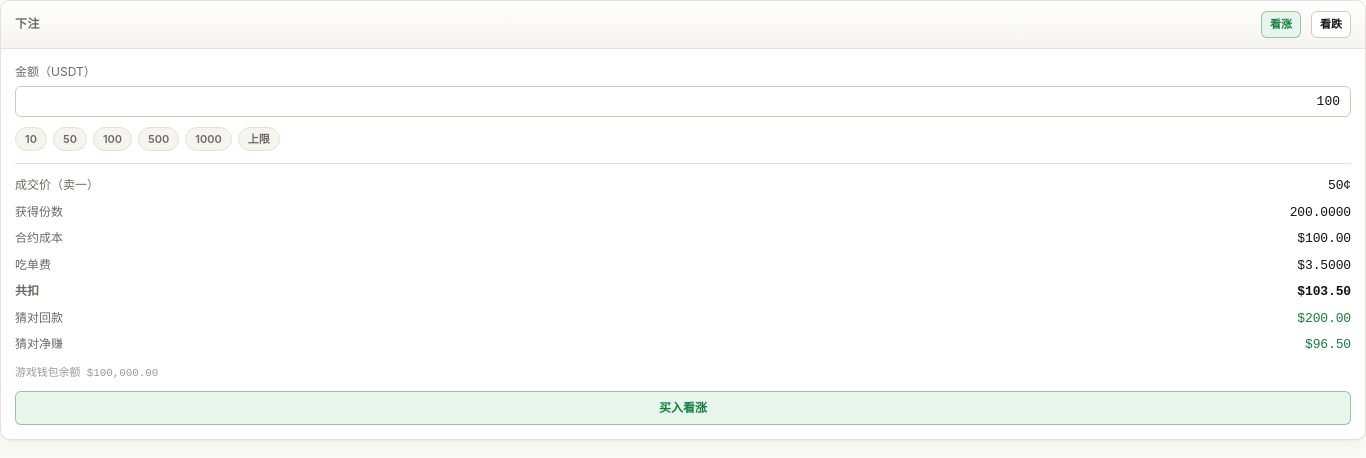
Test: BetTicket：试算以后端为准 › 金额越界时不试算，并锁住下单
Check: the text "200.0000" is shown, box [1290,204,1351,220]
Type "0" into the field labelled "金额（USDT）" at {"x": 683, "y": 101}, box [15,86,1351,116]
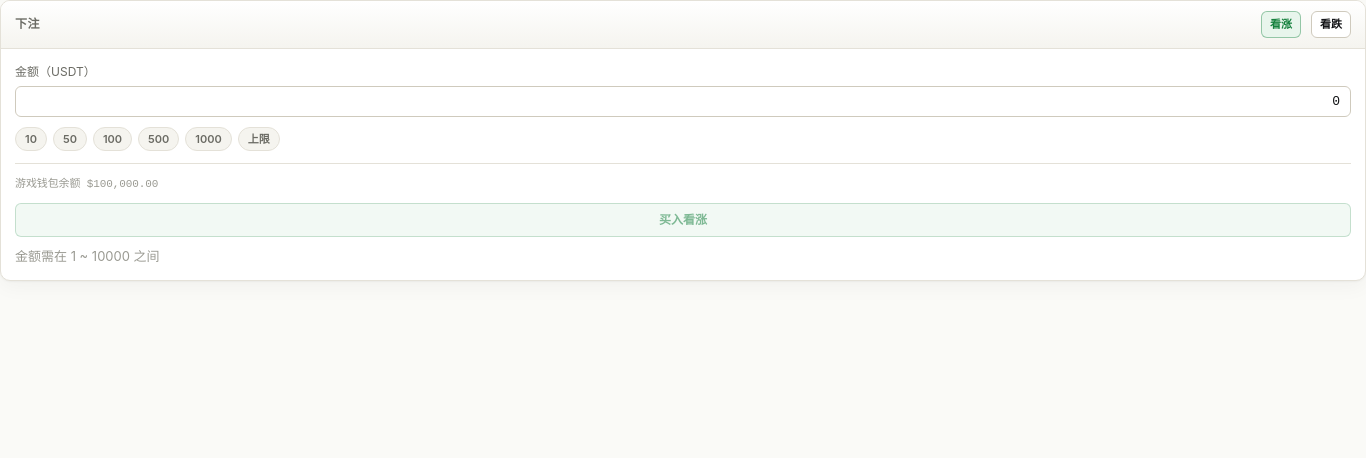
Check: the text "金额需在 1 ~ 10000 之间" is shown, box [15,248,160,264]
Check: the button "买入看涨" is disabled, box [15,202,1351,236]
